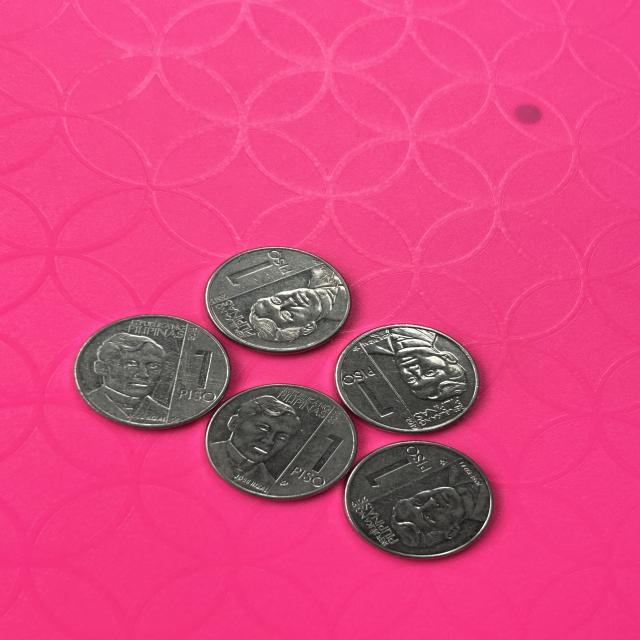1_New_Front: (342, 358, 396, 418), (225, 250, 295, 296), (364, 444, 438, 486), (288, 429, 337, 489), (176, 340, 217, 406)
